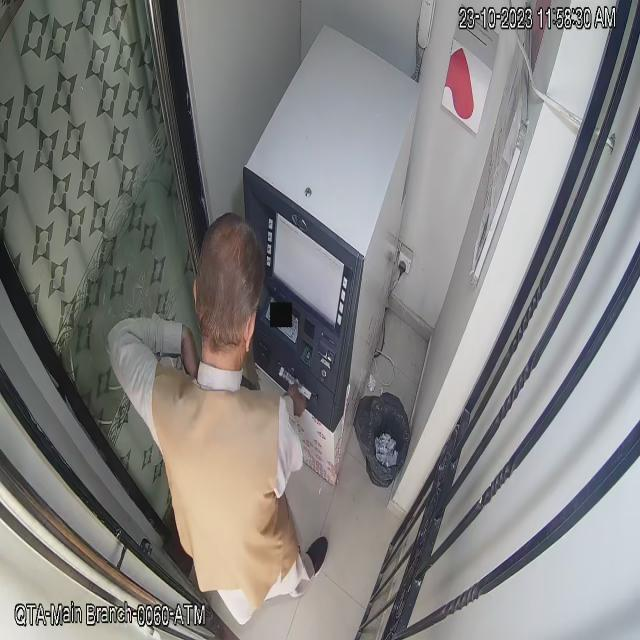note: (276, 363, 314, 404)
